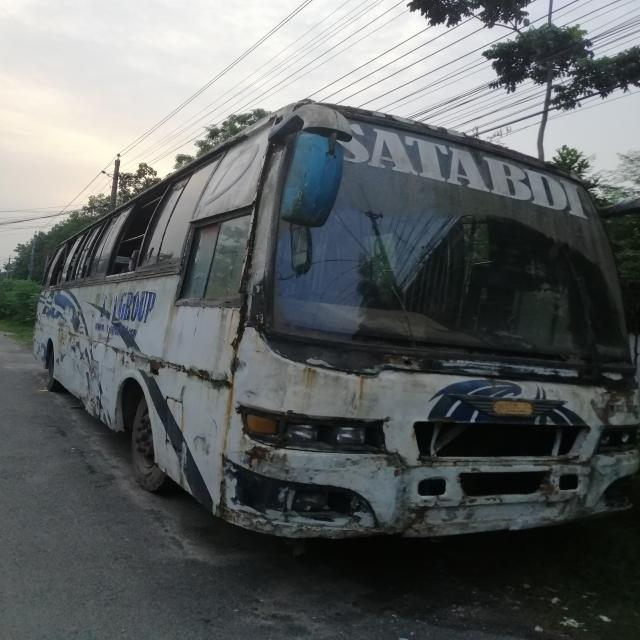Bus: (29, 93, 640, 562)
